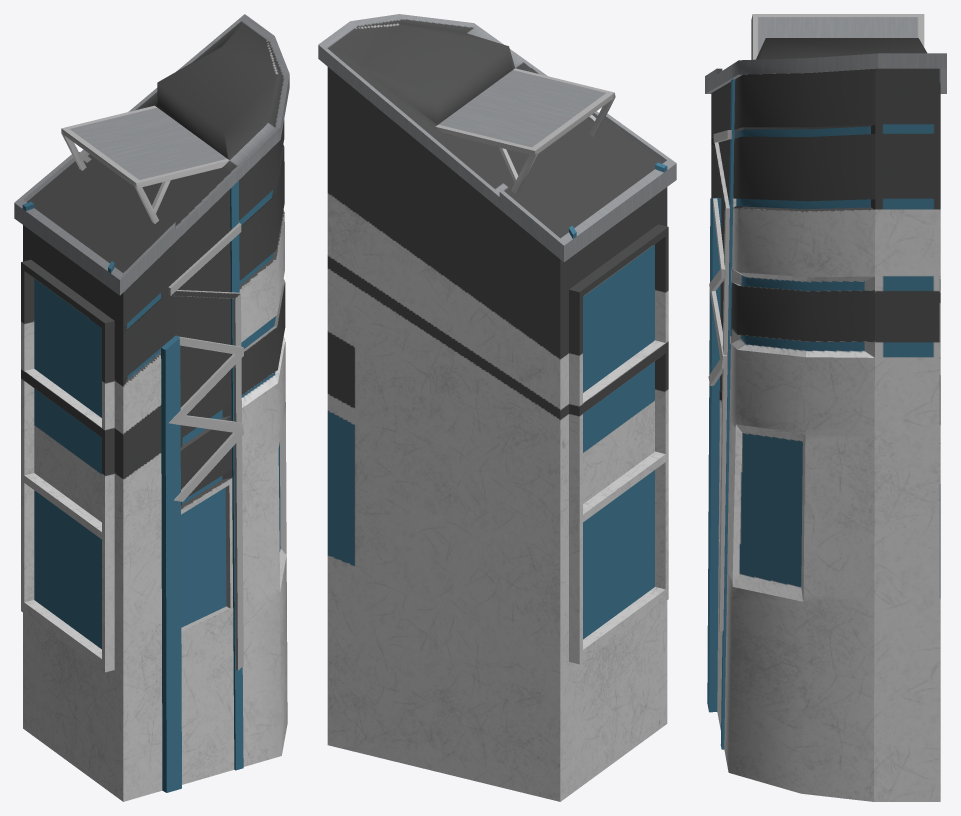
File: ChaosZooCityMapTower02.fbx
The picture shows the model from 3 angles, left to right: view 1: azimuth 30°, elevation 25°; view 2: azimuth 150°, elevation 25°; view 3: azimuth 270°, elevation 25°; orthographic projection. The views are drawn at different scales.
Visible parts, largest first — view 1: pCube4; view 2: pCube4; view 3: pCube4.
Part boxes in pixels (<box>): pCube4: <box>14,14,289,801</box>; pCube4: <box>318,14,676,801</box>; pCube4: <box>705,14,946,801</box>.
Size of the model in its own units: 49.16 by 132 by 38.44.
